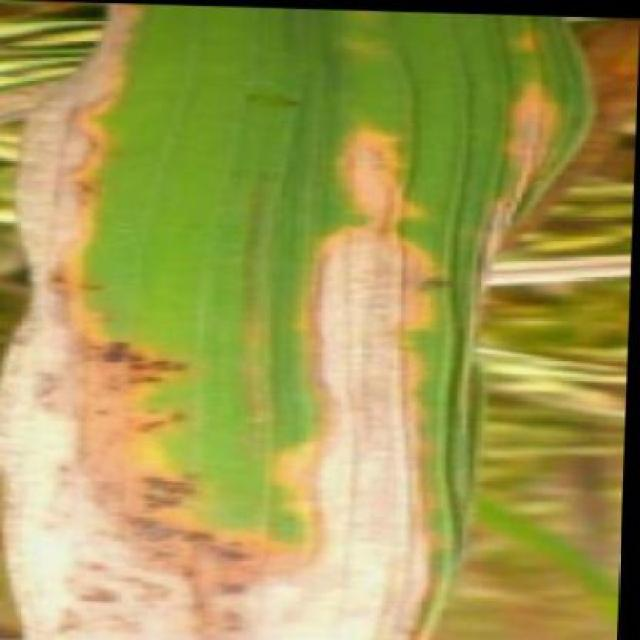Brown_Spot: (0, 23, 606, 635)
Leaf_Blast: (112, 462, 225, 548), (99, 313, 206, 389), (162, 515, 262, 594), (92, 398, 203, 468), (45, 554, 127, 640), (172, 591, 271, 640)
